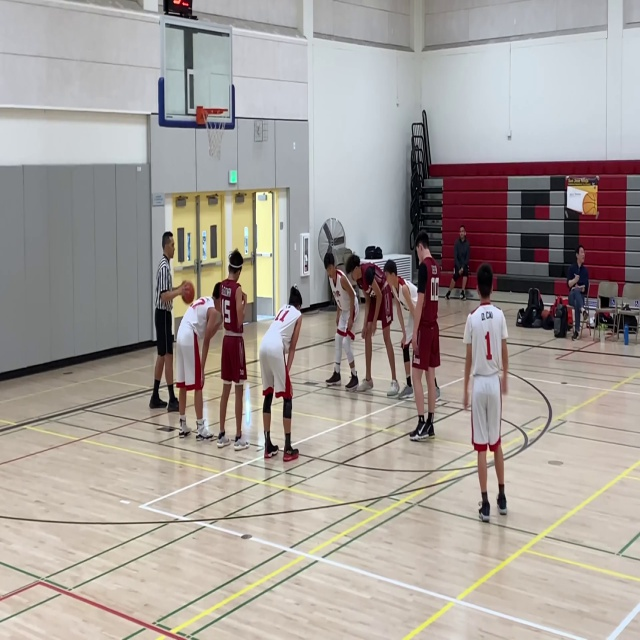Basketball: (180, 281, 195, 304)
